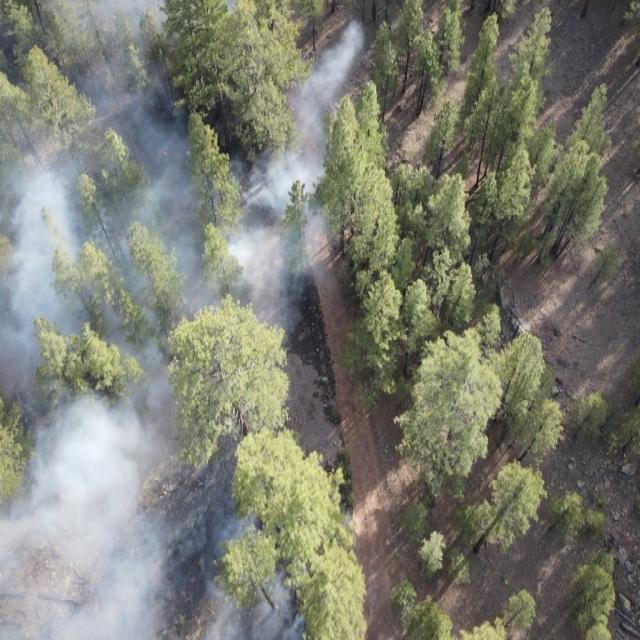fire: (161, 145, 171, 160)
smoke: (1, 342, 303, 640), (0, 159, 327, 341), (0, 0, 245, 179), (295, 10, 369, 176)
